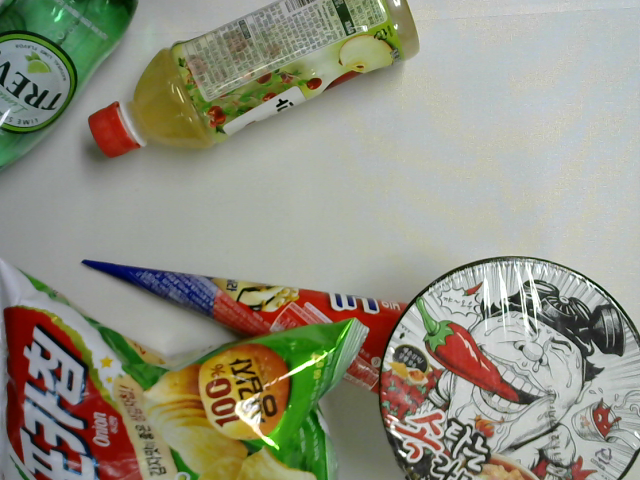HeJangsock: (377, 254, 640, 478)
Morning_Apple_500ml: (82, 1, 427, 165)
Pocachip_Onion: (1, 249, 384, 480)
Treviraim_500ml: (1, 1, 145, 189)
World_Cone_Banila: (79, 255, 451, 404)
